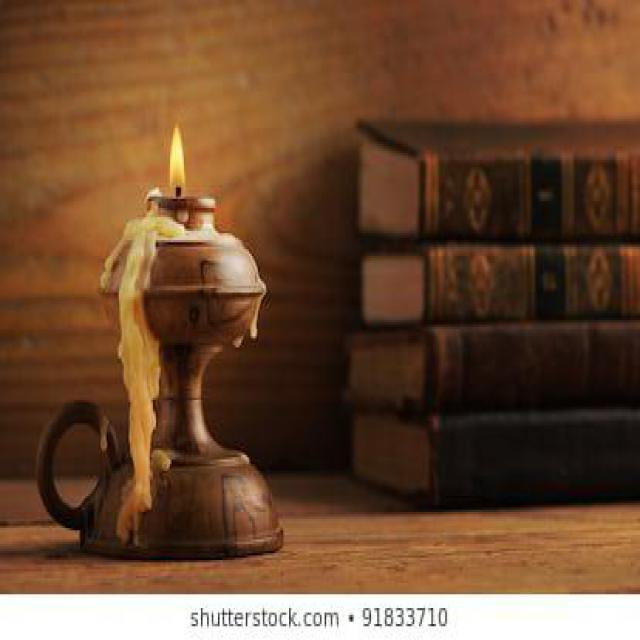Fire: (168, 126, 186, 192)
